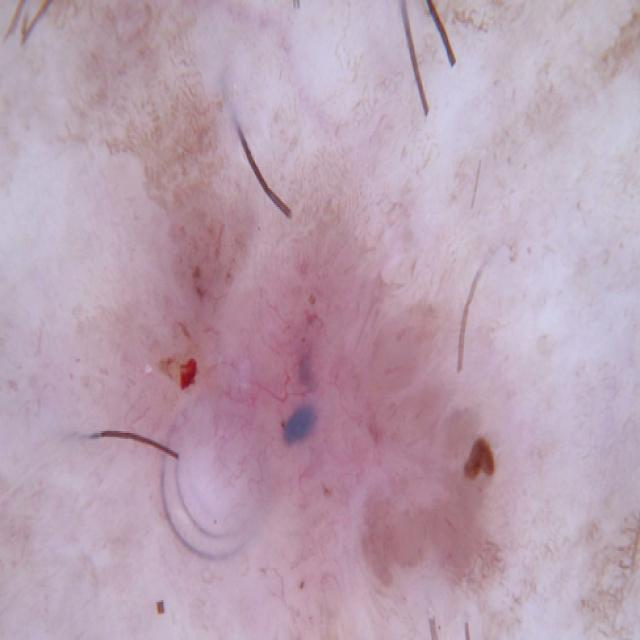Carcinoma: (124, 182, 529, 596)
